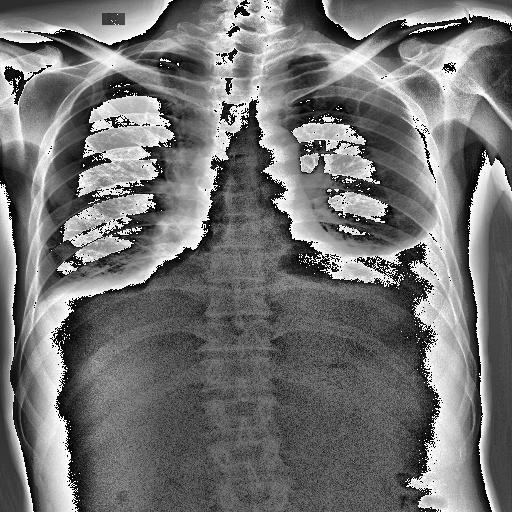10- Pleural effusion: (333, 208, 451, 312), (332, 212, 452, 308), (357, 208, 446, 285), (36, 280, 168, 310), (30, 283, 88, 327)
11- Pleural thickening: (36, 280, 168, 310), (30, 283, 88, 327), (304, 47, 366, 69)
